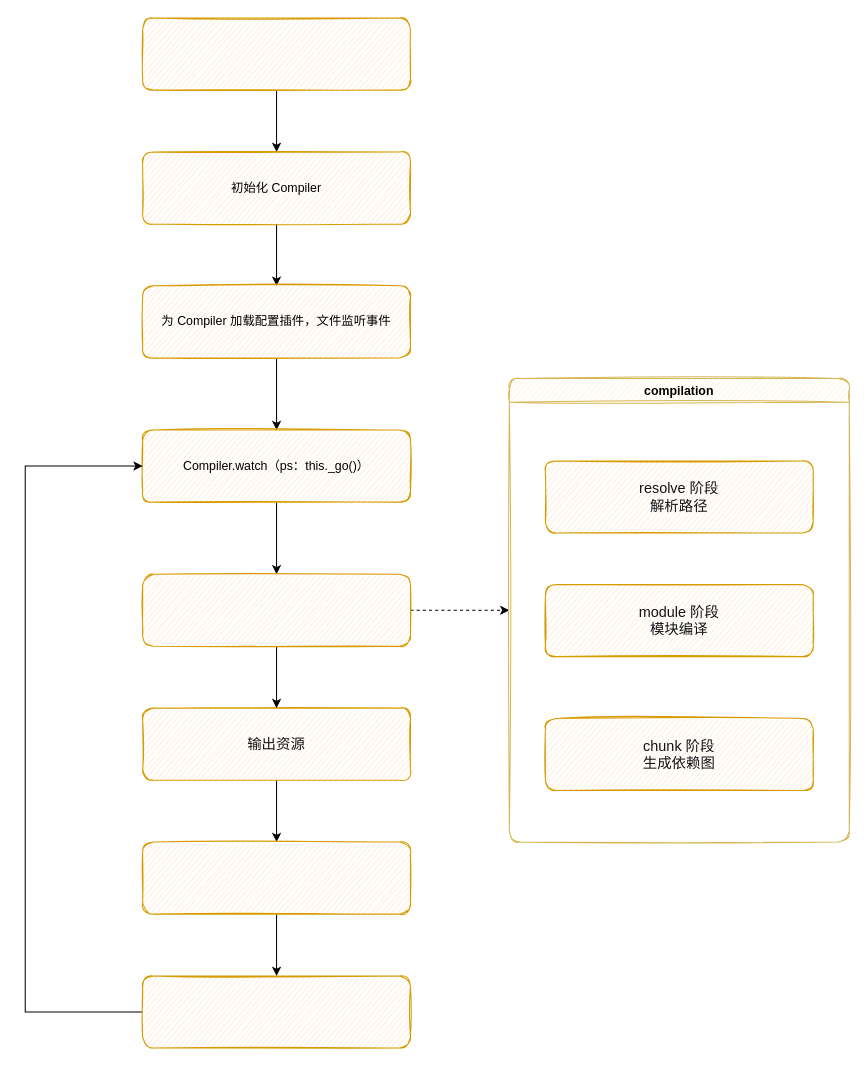
Some shapes in this 867 by 1066 pixel diagram are drawn without their labels. The centre of each missing label's shape, as x and y in pixels:
compilation 初始化: point (276, 609)
初始化参数: point (276, 53)
文件改变: point (276, 1011)
监听文件: point (276, 877)
